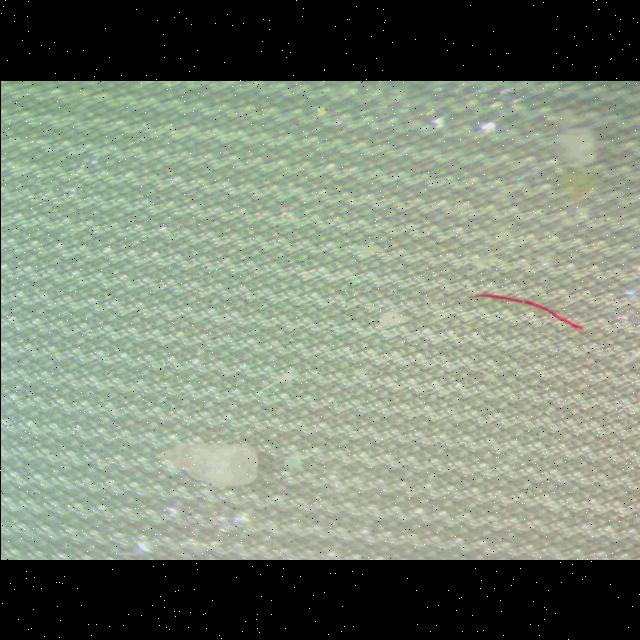Fibre: (461, 286, 594, 332)
